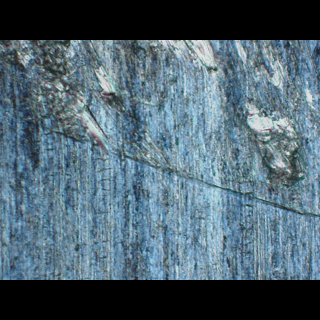d: (2, 40, 318, 221)
